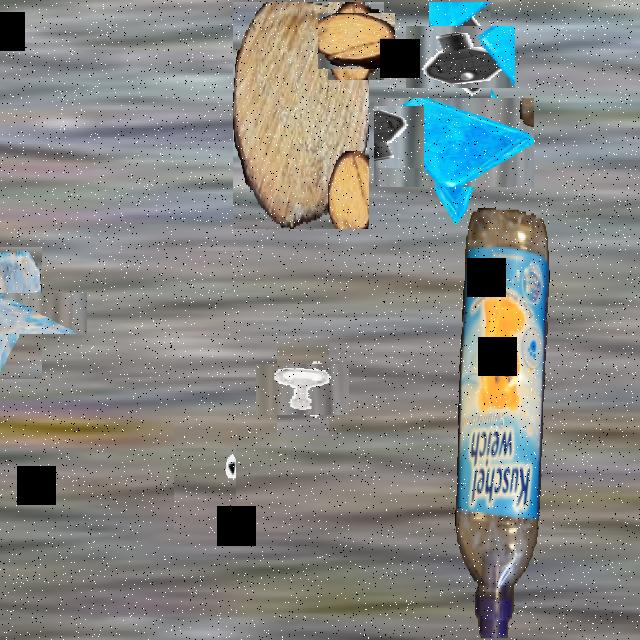glass: (392, 80, 516, 204), (0, 269, 64, 356)
metal: (417, 14, 503, 100), (174, 423, 236, 533), (267, 353, 339, 426)
plastic: (454, 208, 552, 638)
wood: (233, 2, 369, 229), (322, 7, 390, 74)
